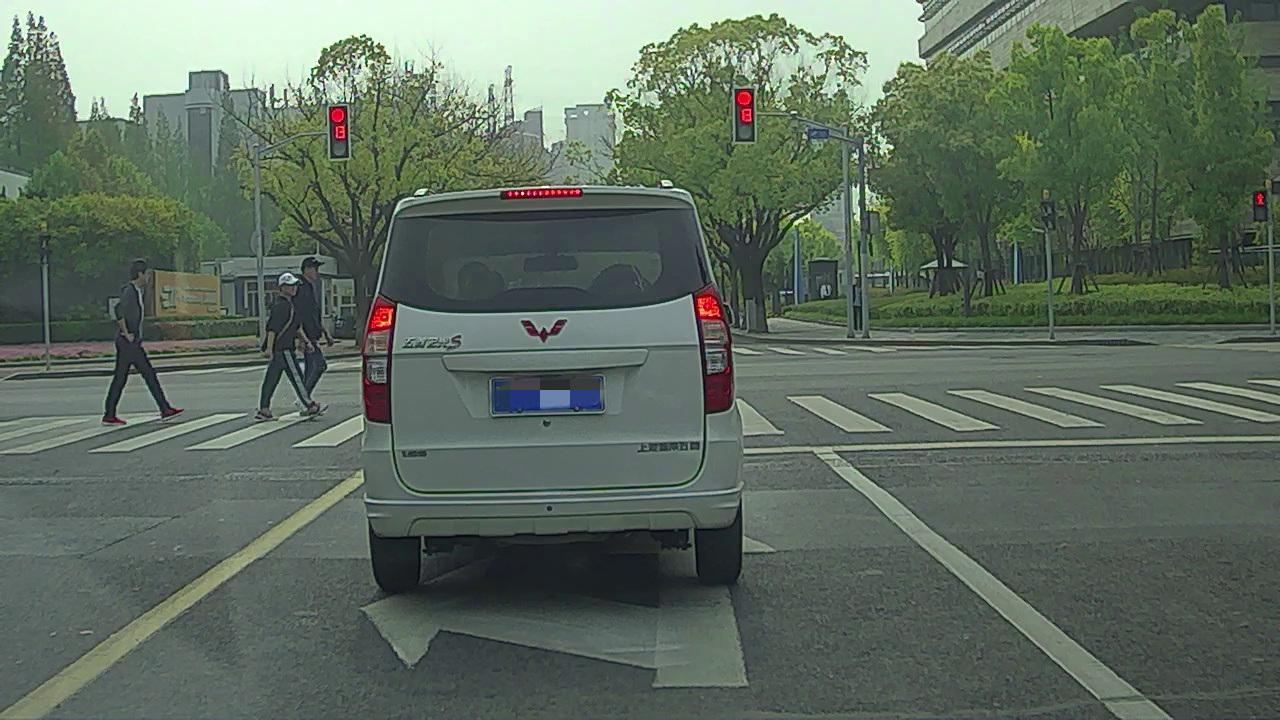traffic_light: (329, 106, 350, 158), (735, 88, 754, 144)
